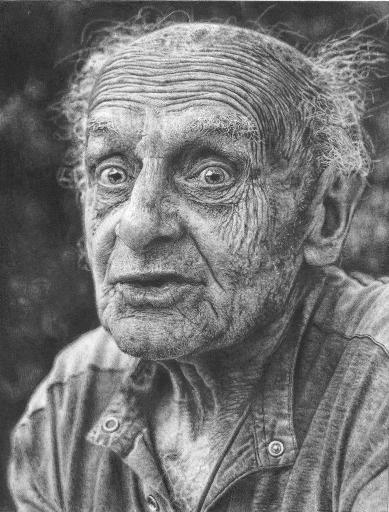left_eye: (191, 164, 234, 190)
left_lip_corner: (187, 273, 207, 296)
right_eye: (98, 166, 131, 189)
right_lip_corner: (109, 271, 135, 296)
